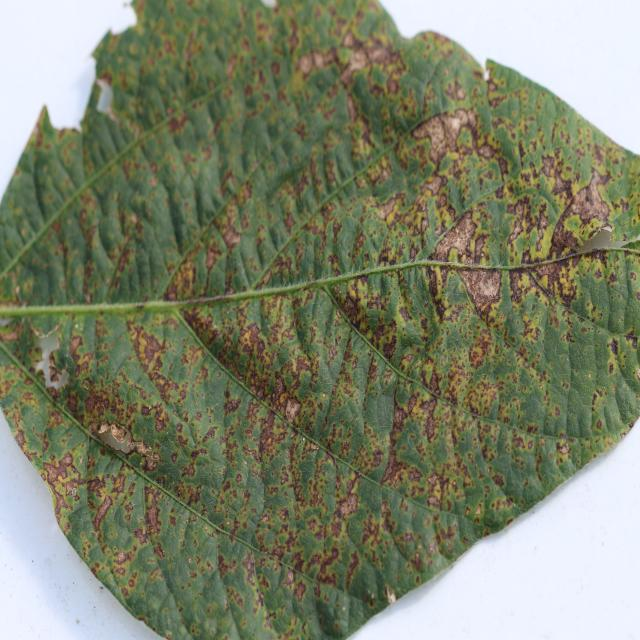Bacterial_Blight: (467, 413, 547, 519), (152, 58, 257, 131), (414, 108, 477, 169), (179, 304, 225, 366), (257, 404, 297, 470), (320, 395, 368, 448), (166, 286, 276, 309), (378, 424, 410, 489), (526, 256, 573, 299), (237, 318, 275, 371), (214, 204, 254, 252), (107, 238, 139, 297), (461, 267, 502, 310), (574, 177, 612, 223), (480, 198, 508, 257), (313, 540, 347, 588), (464, 374, 500, 419), (40, 453, 78, 495), (377, 226, 411, 269), (339, 46, 374, 86), (96, 2, 137, 36), (602, 395, 625, 438), (83, 387, 111, 420), (342, 287, 366, 324), (375, 192, 400, 222), (140, 334, 162, 368), (92, 493, 114, 526), (425, 470, 444, 504), (29, 322, 63, 341), (335, 492, 358, 520), (144, 500, 162, 535), (425, 367, 443, 400), (206, 459, 231, 482), (426, 267, 442, 302), (31, 105, 51, 133), (55, 124, 83, 143), (166, 112, 188, 136), (136, 441, 157, 465), (391, 401, 406, 434), (205, 246, 222, 270), (284, 398, 301, 422), (223, 394, 242, 415), (297, 53, 314, 76), (52, 367, 69, 389), (96, 72, 113, 91), (469, 345, 484, 366), (447, 246, 462, 265), (154, 413, 168, 433), (624, 330, 638, 350), (181, 461, 196, 479), (384, 585, 397, 604), (33, 457, 45, 475), (363, 590, 375, 605), (609, 338, 619, 355), (558, 441, 569, 455), (116, 550, 127, 563), (0, 317, 13, 328), (141, 404, 152, 415), (115, 566, 126, 576), (130, 212, 138, 225), (286, 571, 294, 583), (82, 379, 90, 391), (127, 435, 135, 447), (483, 68, 490, 81), (354, 470, 362, 481), (260, 514, 269, 523), (474, 505, 482, 515), (15, 285, 21, 296), (200, 507, 207, 515), (465, 506, 471, 515), (188, 557, 193, 564), (243, 460, 248, 467), (213, 323, 218, 330), (79, 455, 83, 463), (226, 520, 231, 526), (76, 618, 80, 625), (205, 525, 209, 530), (84, 539, 88, 544), (99, 585, 103, 590), (75, 323, 79, 328), (162, 550, 165, 556), (72, 581, 74, 585)
Soybean: (0, 0, 640, 640)
